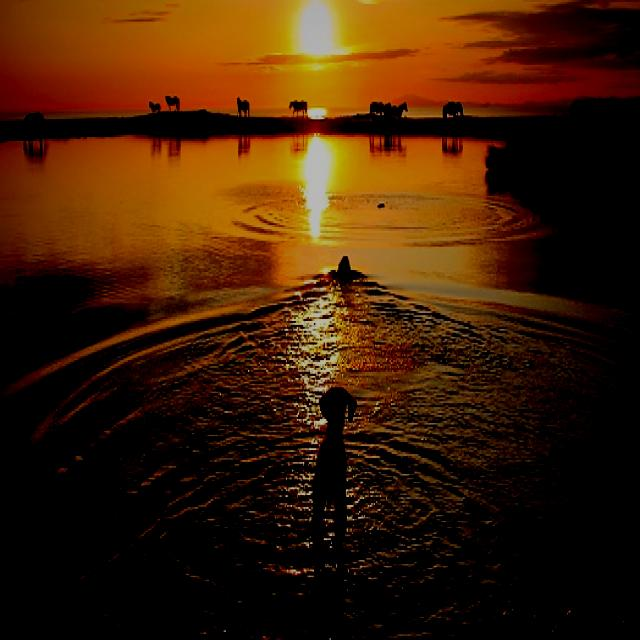Dog: (248, 359, 387, 589)
